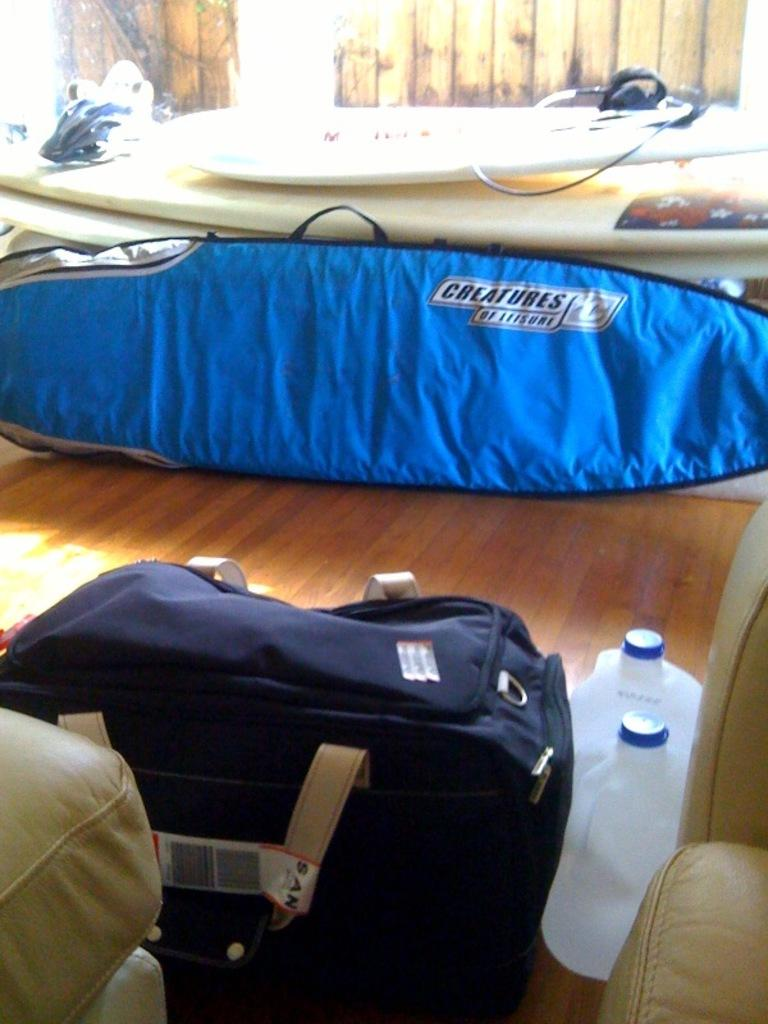Luggage-and-bags: (49, 572, 605, 1005)
